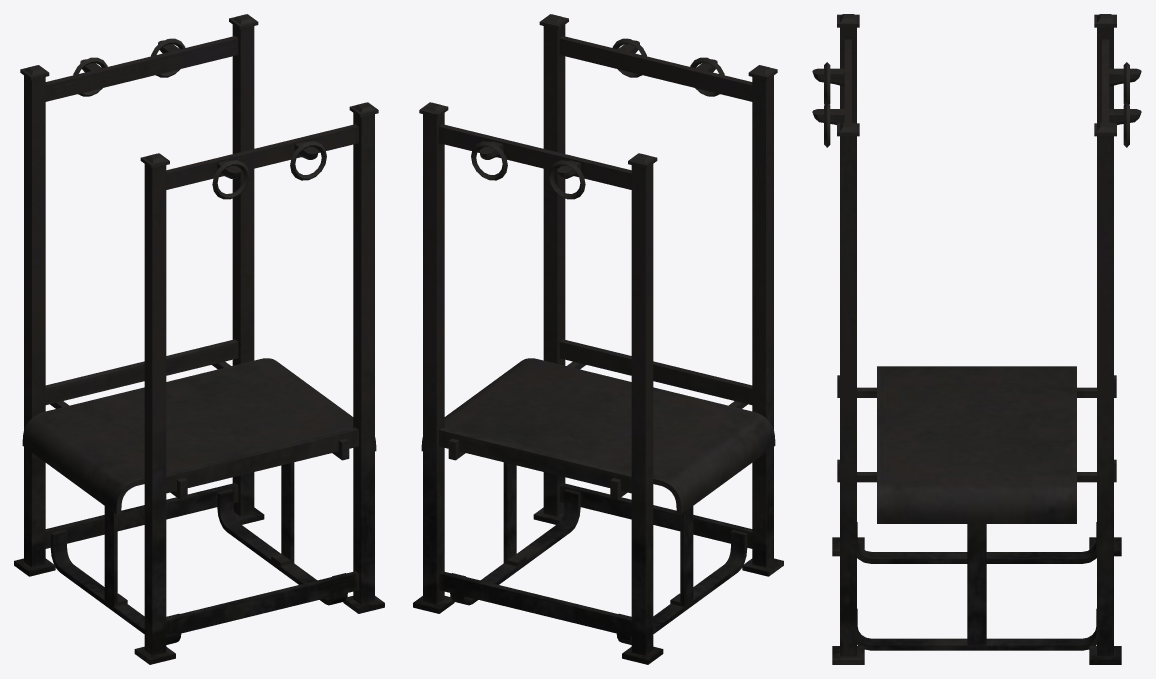
Rendered from fireplace-tools-b.glb.
The picture shows the model from 3 angles, left to right: view 1: azimuth 30°, elevation 25°; view 2: azimuth 150°, elevation 25°; view 3: azimuth 270°, elevation 25°; orthographic projection. The views are drawn at different scales.
Visible parts, largest first — view 1: fireplace-tools-b; view 2: fireplace-tools-b; view 3: fireplace-tools-b.
Part boxes in pixels (bbox=[...]): fireplace-tools-b: bbox=[14, 14, 384, 664]; fireplace-tools-b: bbox=[413, 14, 783, 664]; fireplace-tools-b: bbox=[812, 14, 1141, 664].
Bounding box in the file's own units: 0.4078 × 0.75 × 0.4199.
1 material, 1 textured.
